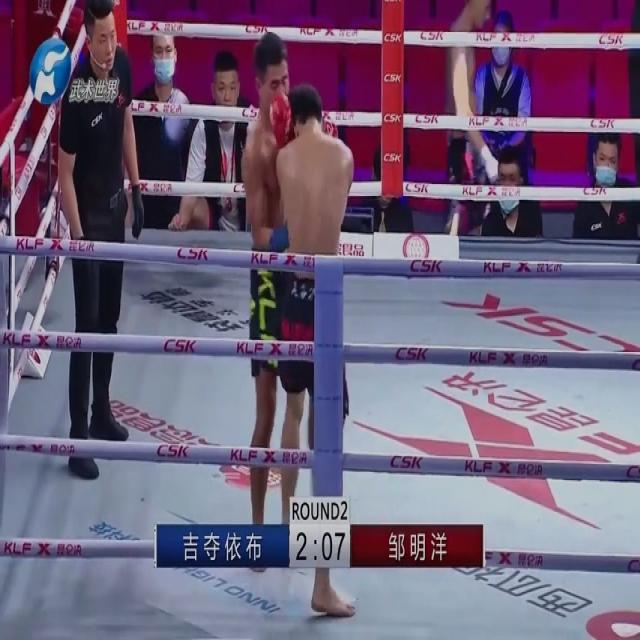fight: (240, 26, 358, 620)
non-fight: (56, 0, 147, 476), (168, 43, 252, 235), (128, 33, 198, 231), (471, 7, 533, 185), (570, 127, 640, 240)
